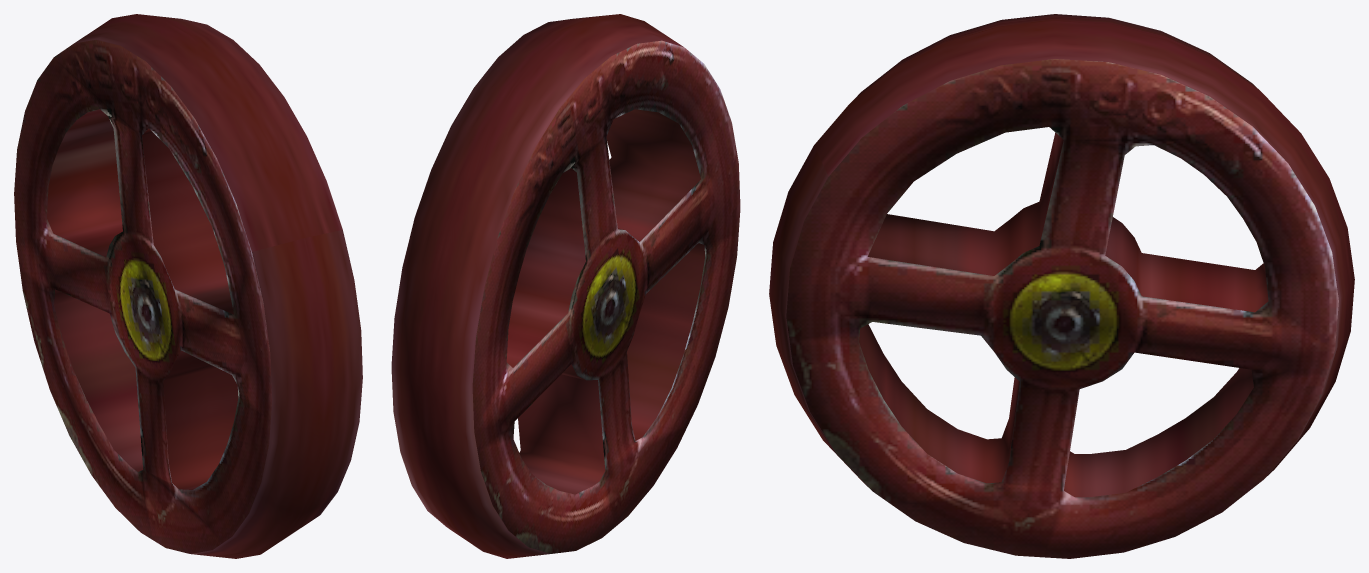
The model's file is switch_valve.glb.
3 renders of one model, left to right at view 1: azimuth 30°, elevation 25°; view 2: azimuth 150°, elevation 25°; view 3: azimuth 270°, elevation 25°, orthographic. The views are drawn at different scales.
Visible parts, largest first — view 1: Cylinder; view 2: Cylinder; view 3: Cylinder.
Boxes of the visible parts, x1=… form: Cylinder: x1=14, y1=14, x2=362, y2=558; Cylinder: x1=391, y1=14, x2=740, y2=558; Cylinder: x1=769, y1=14, x2=1354, y2=558.
Bounding box in the file's own units: 0.1582 × 0.8391 × 0.839.
1 material, 1 textured.
